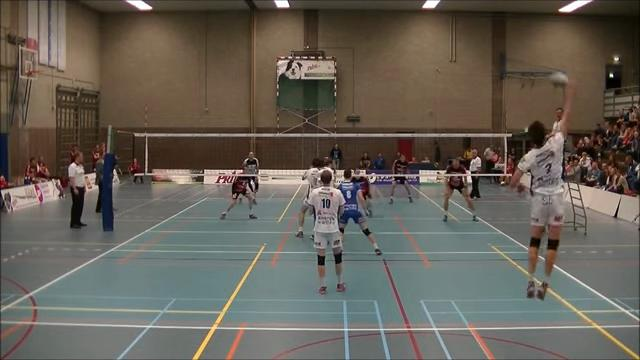Player: (309, 171, 344, 294), (338, 169, 381, 254), (443, 158, 477, 221), (296, 158, 320, 237), (220, 171, 256, 218), (389, 154, 412, 203), (353, 170, 372, 216), (242, 152, 258, 203), (316, 157, 335, 187), (317, 157, 335, 186)
Serve: (507, 80, 581, 305)
ball: (549, 71, 569, 89)
